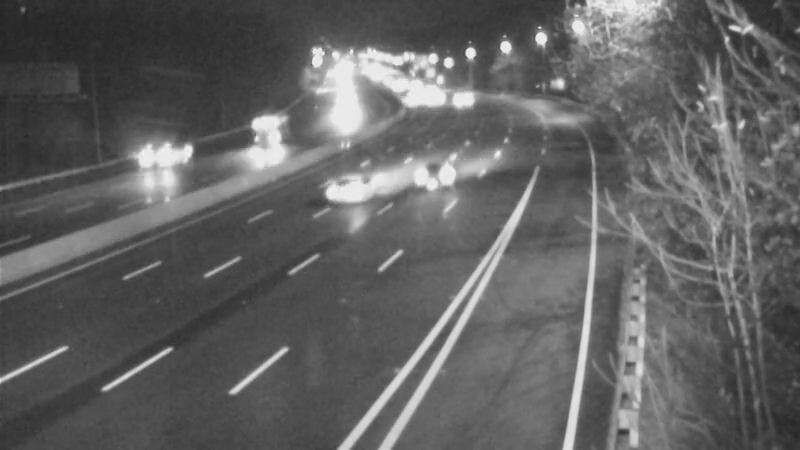vehicle: (400, 129, 480, 209), (308, 144, 388, 224), (121, 119, 201, 199), (441, 76, 491, 126), (236, 114, 286, 164), (320, 96, 370, 146)
